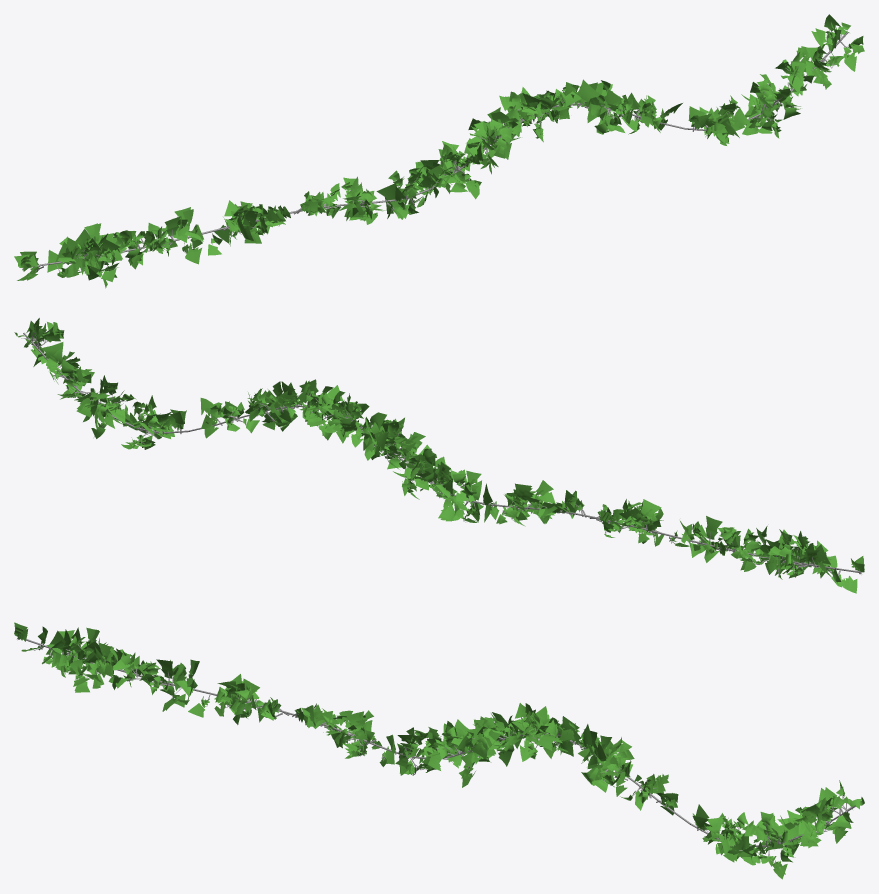
File: ivyStraightB.fbx
3 renders of one model, top to bottom at view 1: azimuth 30°, elevation 25°; view 2: azimuth 150°, elevation 25°; view 3: azimuth 330°, elevation 25°, orthographic.
Parts seen in each view (by area): view 1: ivyStraightB_leaf, ivyStraightB_stem, ivyStraightB_vine; view 2: ivyStraightB_leaf, ivyStraightB_stem, ivyStraightB_vine; view 3: ivyStraightB_leaf, ivyStraightB_stem, ivyStraightB_vine.
Part boxes in pixels (x1,y1,x2,y2): ivyStraightB_leaf: (14, 14, 864, 288); ivyStraightB_stem: (22, 30, 851, 275); ivyStraightB_vine: (23, 31, 848, 268); ivyStraightB_leaf: (14, 318, 864, 593); ivyStraightB_stem: (19, 332, 861, 582); ivyStraightB_vine: (23, 332, 861, 573); ivyStraightB_leaf: (14, 622, 864, 879); ivyStraightB_stem: (18, 633, 851, 864); ivyStraightB_vine: (17, 637, 855, 847).
Bounding box in the file's own units: 801 × 101 × 59.16.
